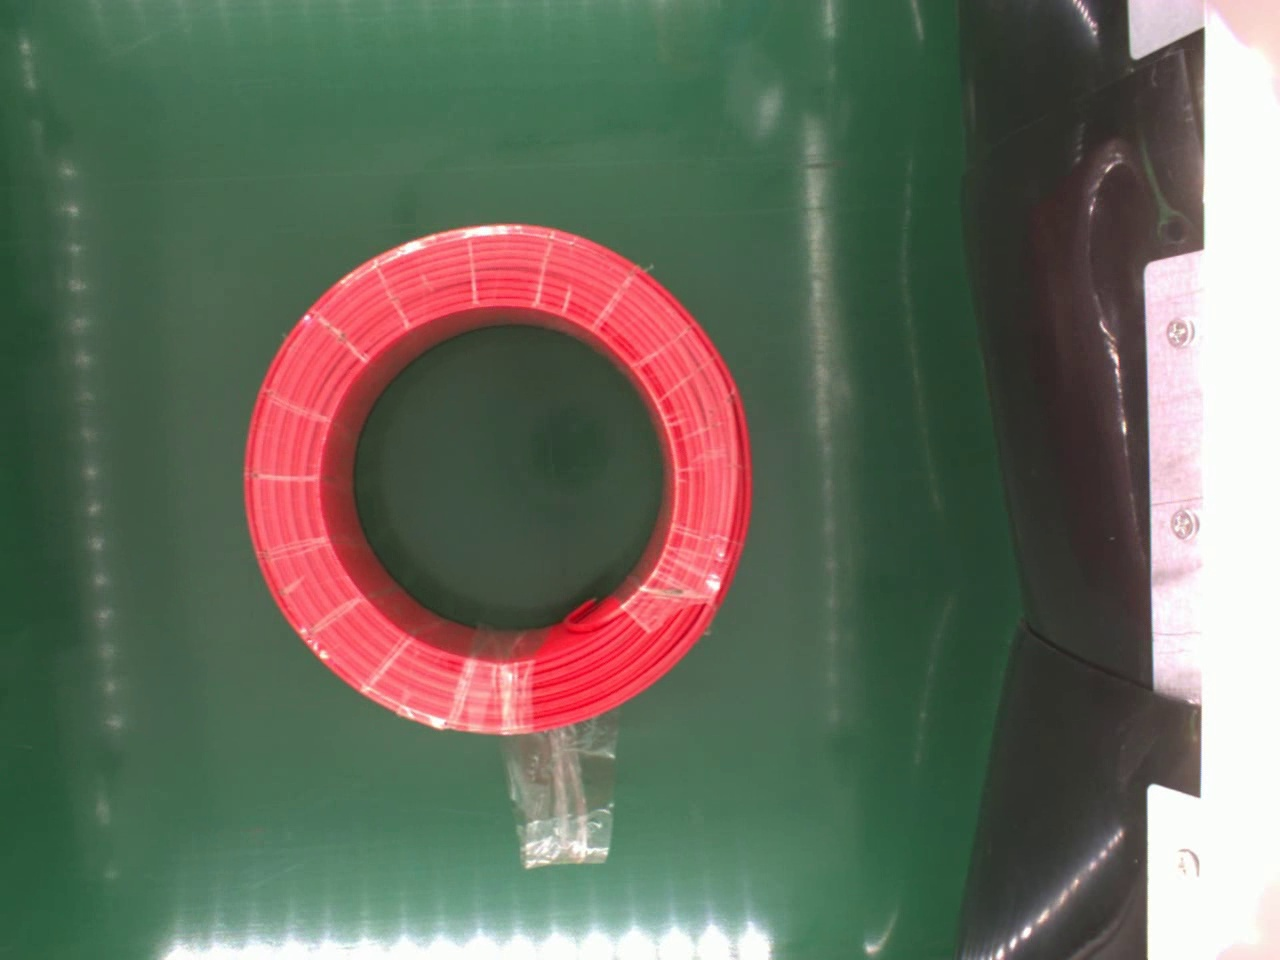red: (242, 221, 755, 737)
